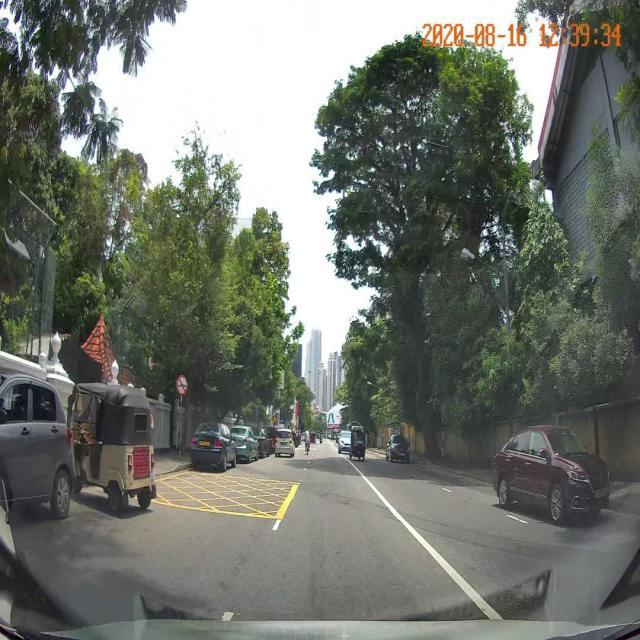Jeltaya razmetka: (151, 470, 302, 520)
